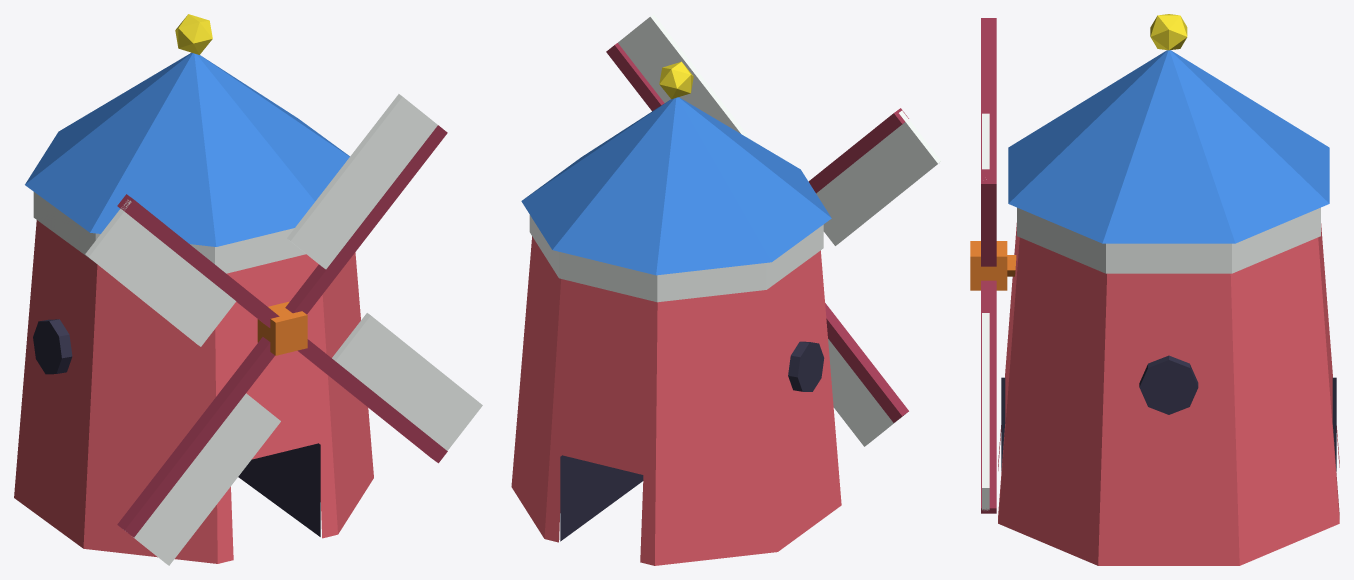
Rendered from windmill.glb.
The picture shows the model from 3 angles, left to right: view 1: azimuth 30°, elevation 25°; view 2: azimuth 150°, elevation 25°; view 3: azimuth 270°, elevation 25°; orthographic projection. The views are drawn at different scales.
Visible parts, largest first — view 1: Tower, Roof, Spar2, Spar0, Spar3, Spar1, Liner, Band, Hub, WinL, Finial; view 2: Tower, Roof, Spar3, Band, Spar2, Spar0, Liner, WinL, Finial; view 3: Tower, Roof, Band, Spar1, WinR, Spar3, Spar0, Hub, Finial, Liner.
Boxes of the visible parts, bbox=[...] form: Tower: bbox=[14, 220, 373, 563]; Roof: bbox=[25, 52, 349, 246]; Spar2: bbox=[117, 337, 280, 565]; Spar0: bbox=[285, 94, 447, 314]; Spar3: bbox=[85, 194, 279, 346]; Spar1: bbox=[297, 313, 482, 463]; Liner: bbox=[238, 443, 320, 536]; Band: bbox=[33, 192, 305, 273]; Hub: bbox=[257, 301, 307, 355]; WinL: bbox=[33, 319, 72, 374]; Finial: bbox=[175, 14, 212, 54]; Tower: bbox=[511, 236, 841, 565]; Roof: bbox=[521, 97, 831, 275]; Spar3: bbox=[808, 108, 941, 245]; Band: bbox=[529, 215, 823, 302]; Spar2: bbox=[825, 303, 908, 446]; Spar0: bbox=[606, 14, 750, 139]; Liner: bbox=[560, 455, 643, 541]; WinL: bbox=[788, 341, 824, 391]; Finial: bbox=[659, 61, 693, 99]; Tower: bbox=[998, 223, 1339, 565]; Roof: bbox=[1008, 50, 1329, 243]; Band: bbox=[1017, 207, 1320, 273]; Spar1: bbox=[981, 280, 996, 513]; WinR: bbox=[1139, 355, 1198, 414]; Spar3: bbox=[981, 18, 996, 169]; Spar0: bbox=[981, 113, 996, 266]; Hub: bbox=[970, 241, 1007, 290]; Finial: bbox=[1150, 14, 1187, 50]; Liner: bbox=[1001, 377, 1336, 471].
Bounding box in the file's own units: 2.98 × 3.4 × 2.38.
